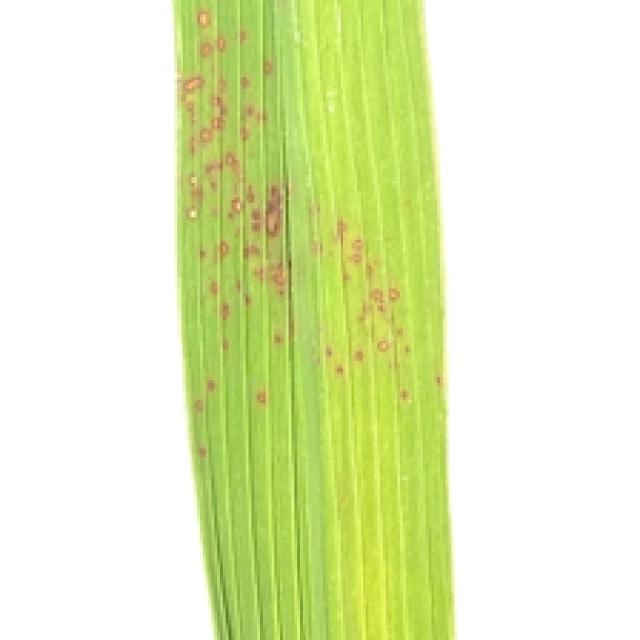Rice___Brown_Spot: (174, 1, 458, 637)
